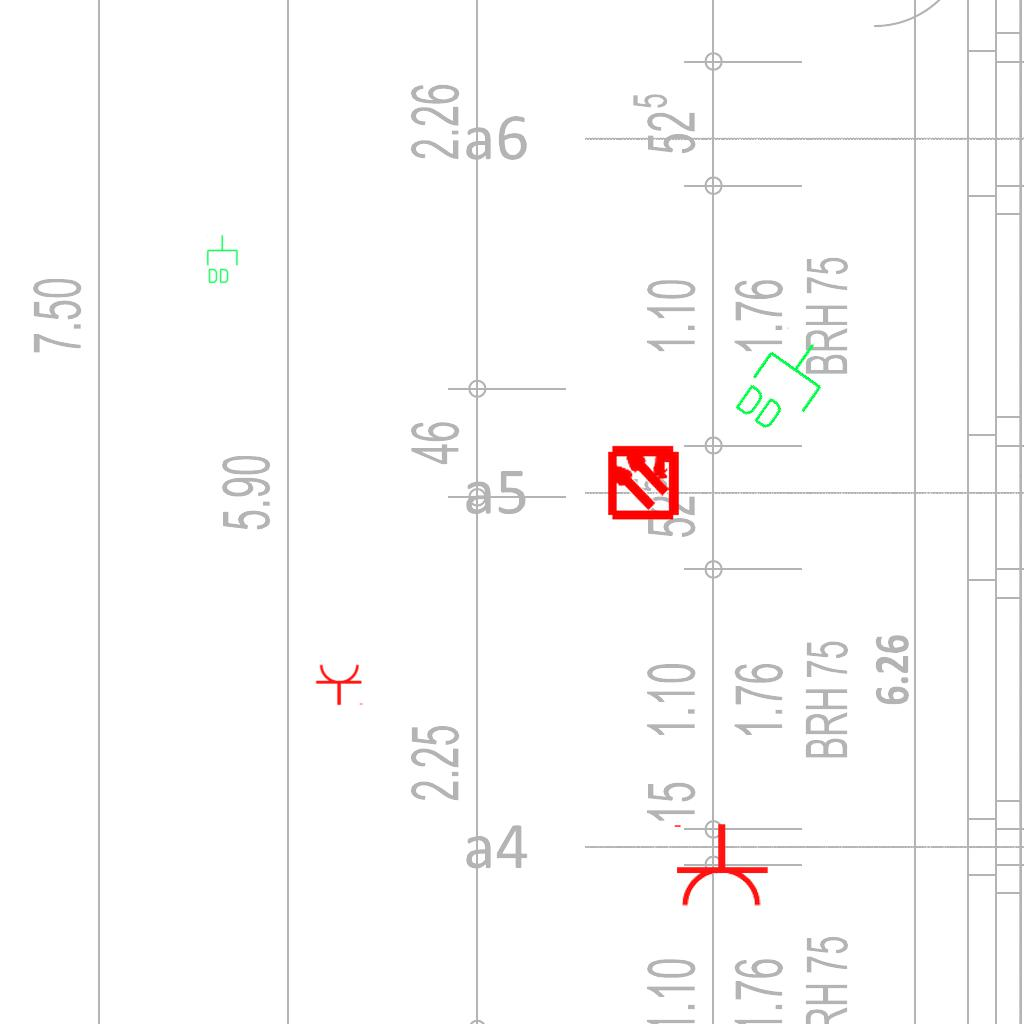Datenanschluss_zweifach: (726, 322, 843, 447), (205, 234, 239, 285)
OT_Multisensormelder_(Kombination_RMO_WMD): (587, 424, 700, 537)
Schukosteckdose_einfach: (670, 822, 770, 909), (315, 663, 365, 706)
